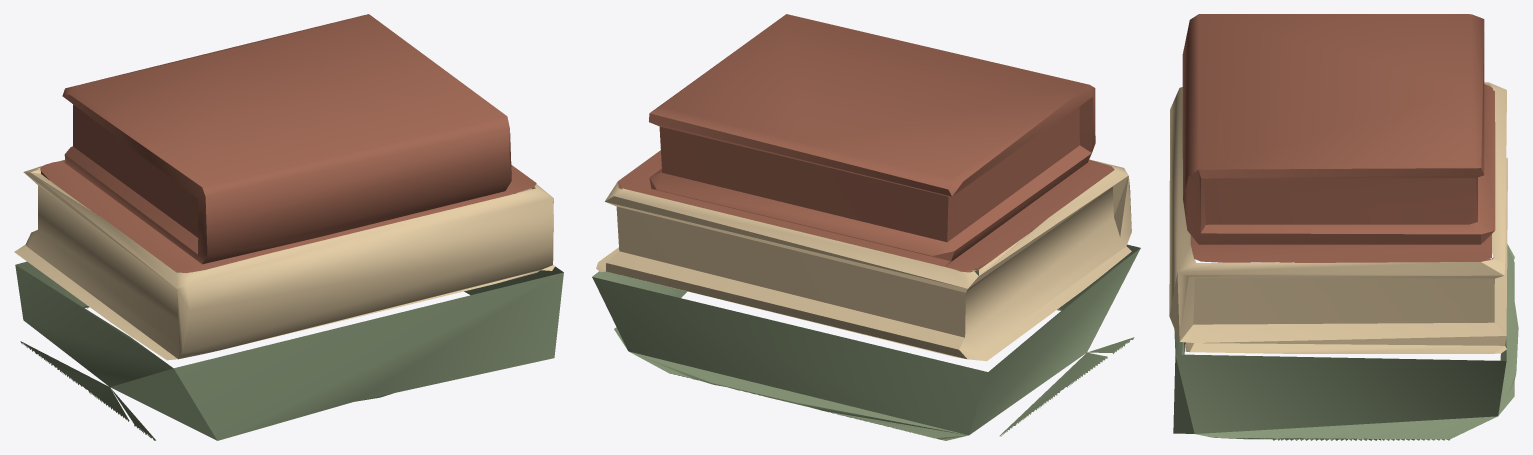
File: bookStack.glb
3 renders of one model, left to right at view 1: azimuth 30°, elevation 25°; view 2: azimuth 150°, elevation 25°; view 3: azimuth 270°, elevation 25°, orthographic. The views are drawn at different scales.
Parts seen in each view (by area): view 1: bookStack_cover, bookStack_book.001, bookStack_book; view 2: bookStack_cover, bookStack_book.001, bookStack_book; view 3: bookStack_cover, bookStack_book.001, bookStack_book.
Boxes of the visible parts, x1=… form: bookStack_cover: x1=40, y1=14, x2=536, y2=273; bookStack_book.001: x1=14, y1=160, x2=554, y2=360; bookStack_book: x1=15, y1=261, x2=563, y2=440; bookStack_cover: x1=618, y1=14, x2=1114, y2=272; bookStack_book.001: x1=596, y1=150, x2=1131, y2=361; bookStack_book: x1=592, y1=231, x2=1140, y2=440; bookStack_cover: x1=1182, y1=14, x2=1495, y2=262; bookStack_book.001: x1=1169, y1=82, x2=1507, y2=353; bookStack_book: x1=1173, y1=244, x2=1518, y2=440.
Bounding box in the file's own units: 0.2381 × 0.1415 × 0.1753.
